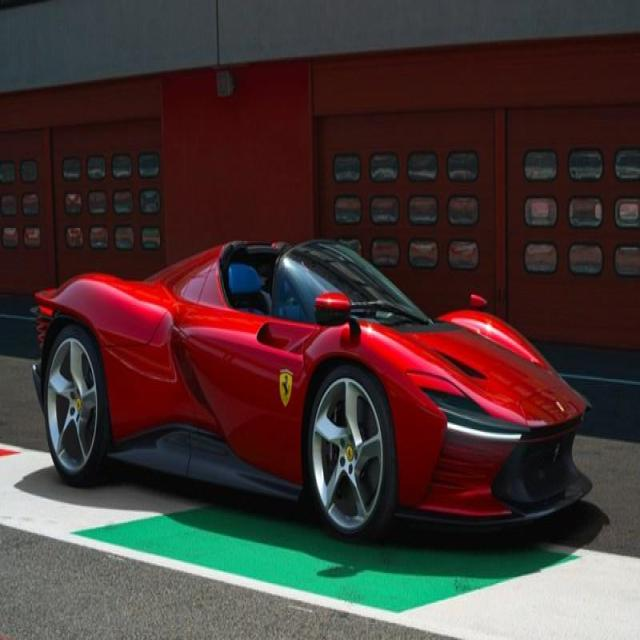cars13: (28, 235, 597, 544)
